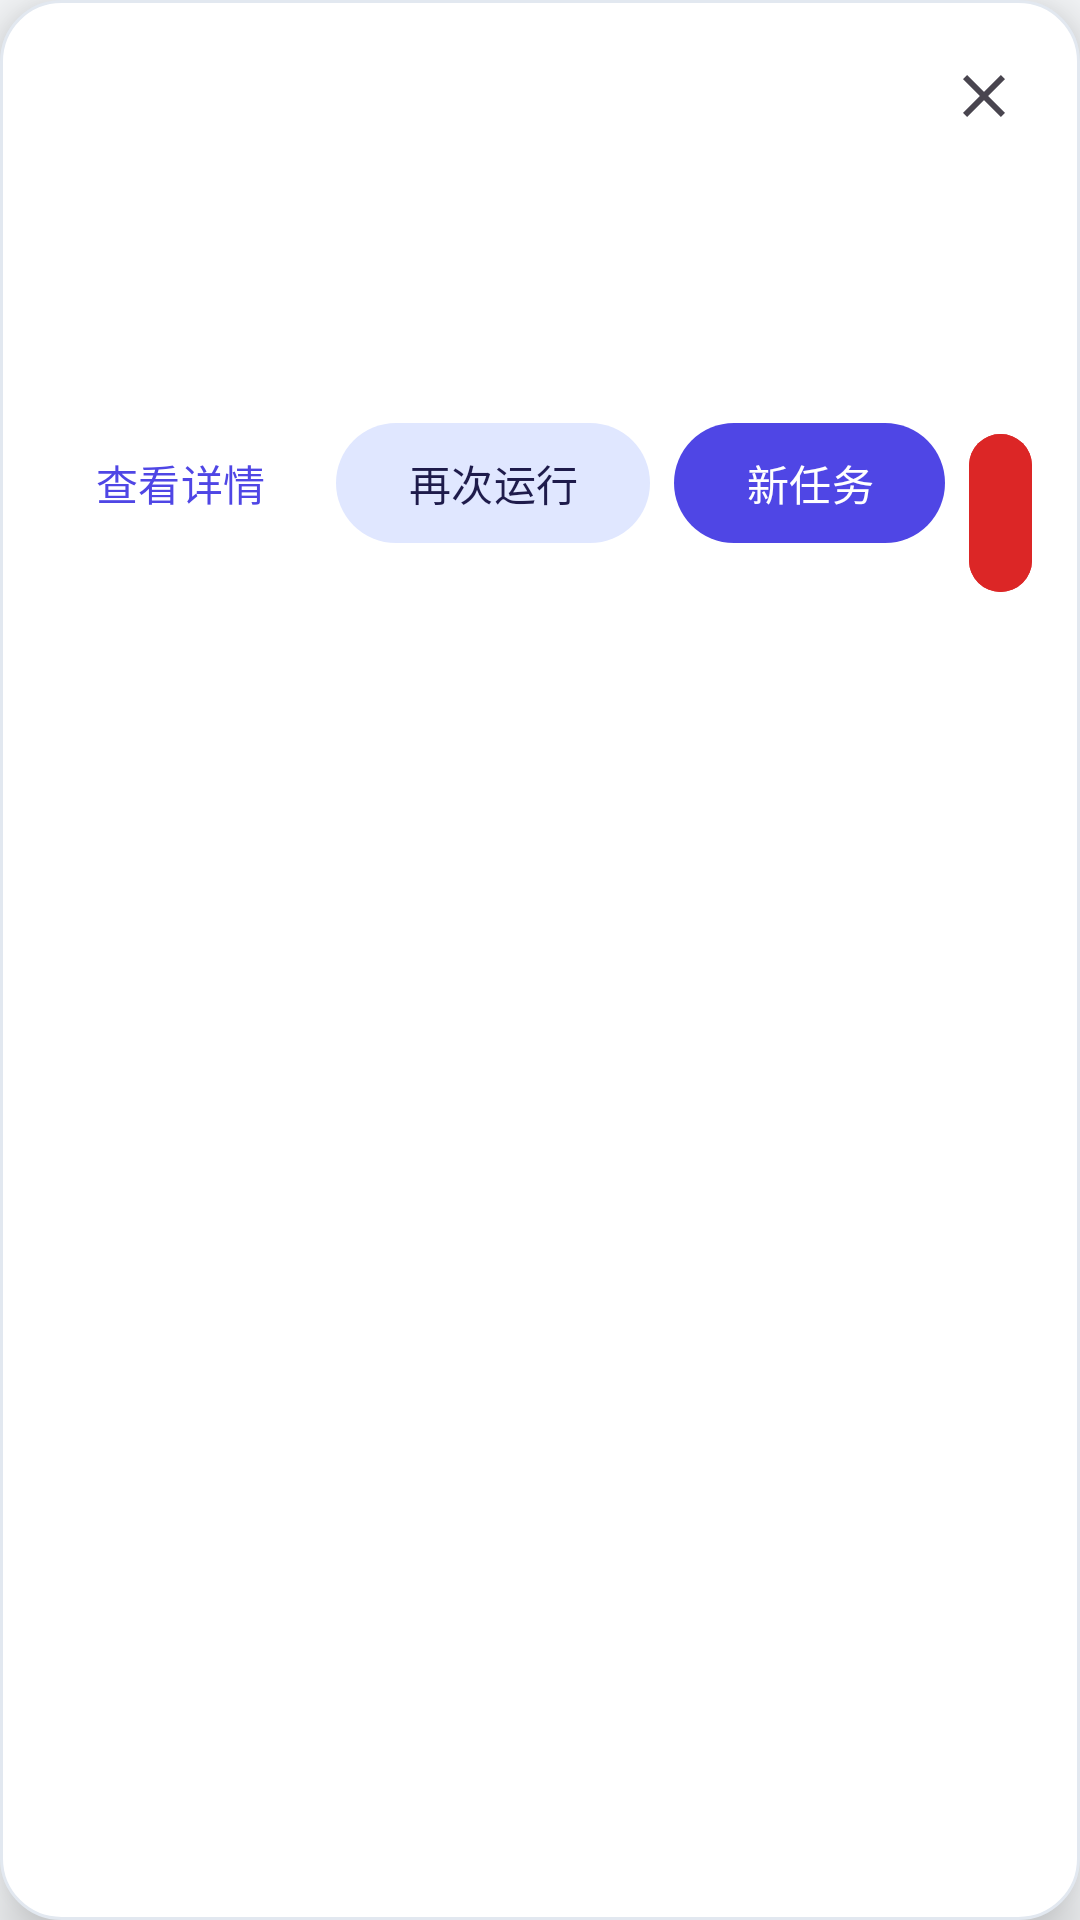

Icon bounding boxes for this 1080px x 1920px phone screenshot, format (x1,y1,x2,y2):
取消: (963,75,1005,117)
